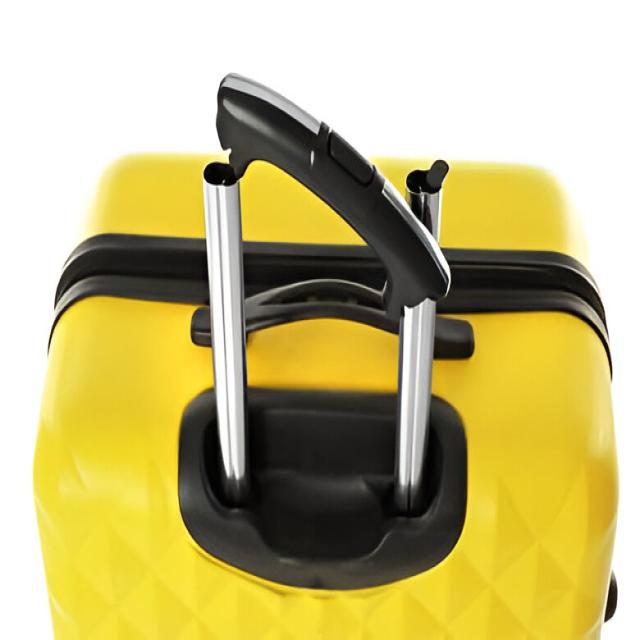Damage-bag: (204, 74, 449, 321)
